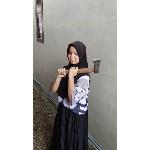Kapak: (57, 57, 106, 79)
